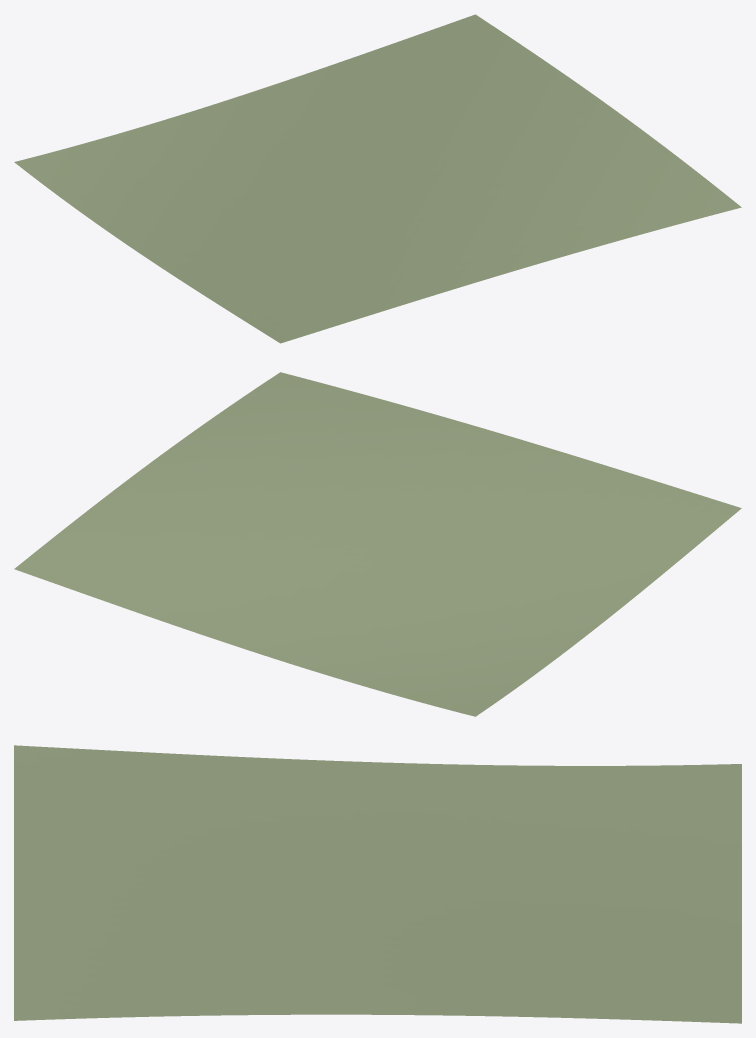
The model's file is alpine-2-14.glb.
3 views of the same model, one above another, from view 1: azimuth 30°, elevation 25°; view 2: azimuth 150°, elevation 25°; view 3: azimuth 270°, elevation 25° (orthographic). The views are drawn at different scales.
Visible parts, largest first — view 1: alpine-2-14; view 2: alpine-2-14; view 3: alpine-2-14.
Boxes of the visible parts, x1,y1,x2,y2 form: alpine-2-14: (14,14,741,343); alpine-2-14: (14,372,741,716); alpine-2-14: (14,745,741,1023).
Bounding box in the file's own units: 256 × 22.85 × 256.
